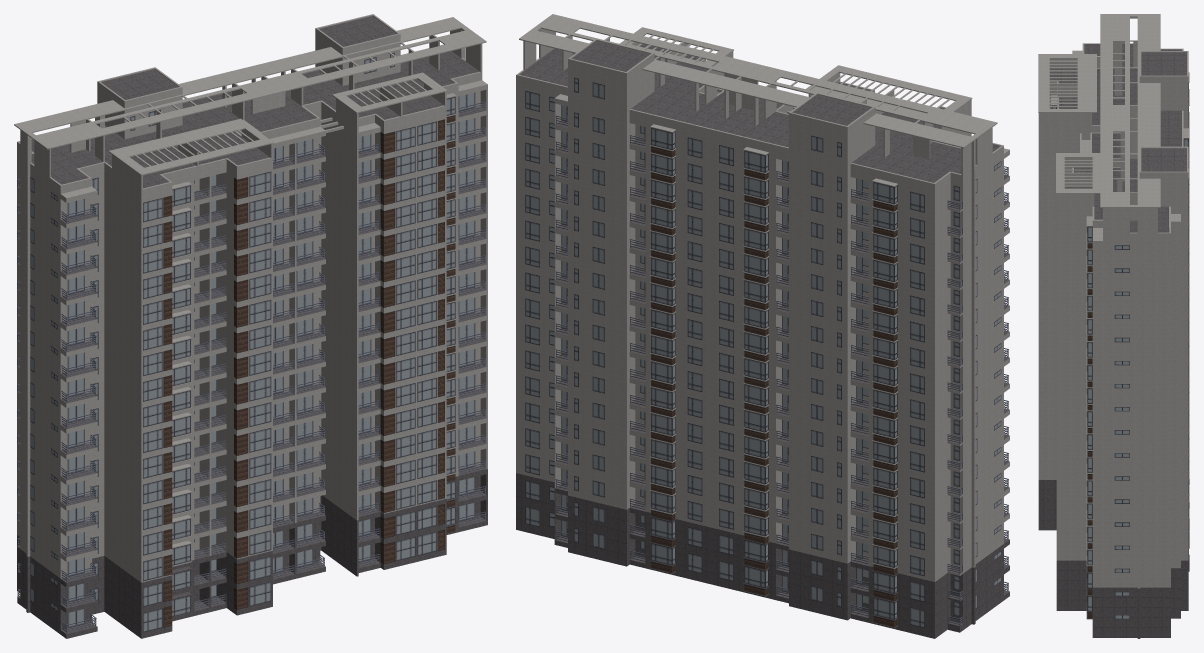
File: building_normal.gltf
3 renders of one model, left to right at view 1: azimuth 30°, elevation 25°; view 2: azimuth 150°, elevation 25°; view 3: azimuth 270°, elevation 25°, orthographic. The views are drawn at different scales.
Parts seen in each view (by area): view 1: Building_Mesh_120; view 2: Building_Mesh_120; view 3: Building_Mesh_120.
Boxes of the visible parts, x1,y1,x2,y2 form: Building_Mesh_120: (14, 14, 487, 638); Building_Mesh_120: (516, 14, 1009, 638); Building_Mesh_120: (1038, 14, 1189, 638).
Size of the model in its own units: 53.8 by 57 by 17.84.
Materials: 5 (5 with a texture image).
